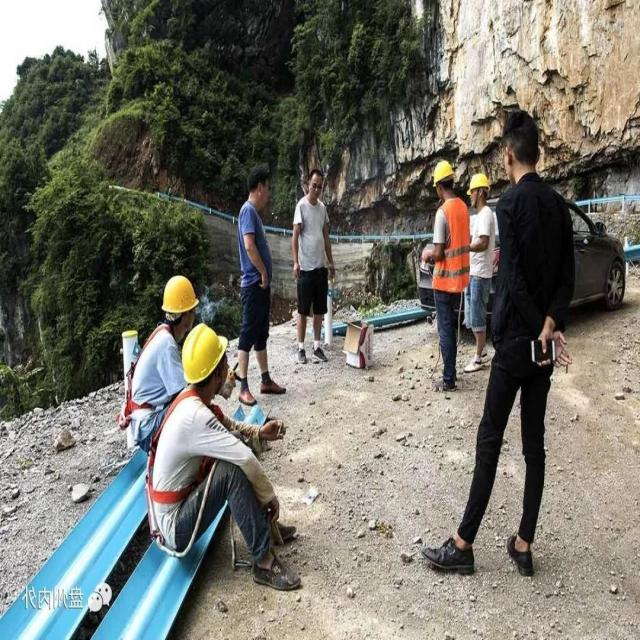Reflective-Jacket: (432, 196, 469, 290)
Safety-Helmet: (181, 324, 227, 385), (160, 272, 198, 315), (432, 158, 455, 184), (467, 172, 490, 193)
